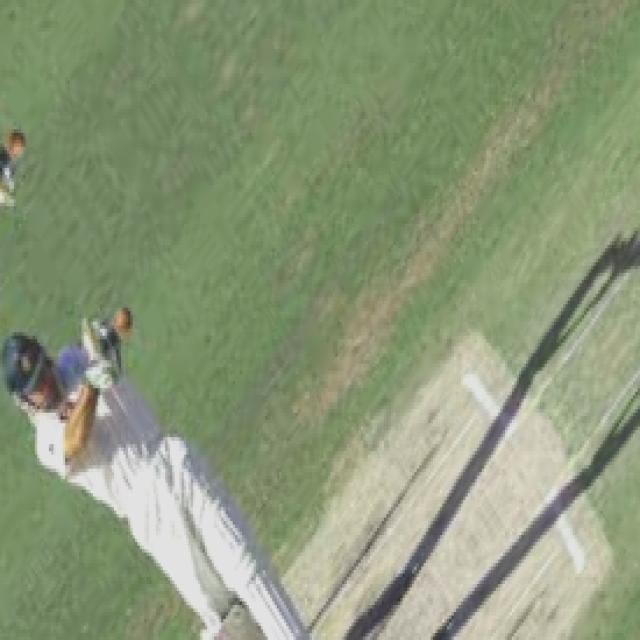toe: (88, 322, 99, 357)
